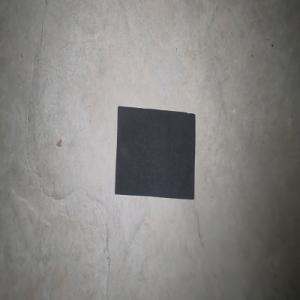PaintChip: (114, 105, 195, 200)
